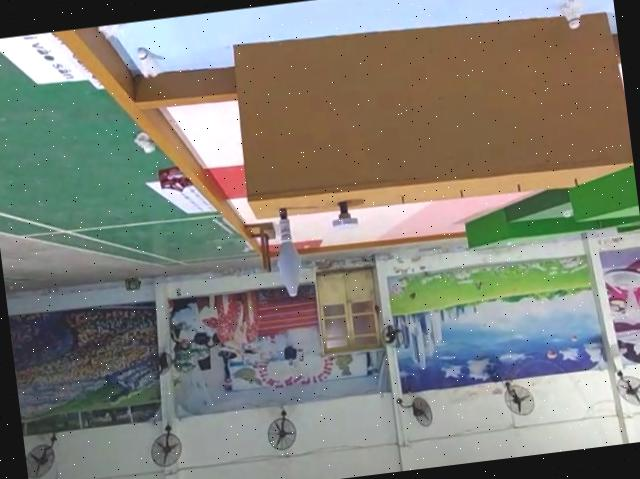Hand: (325, 198, 358, 232)
Sph: (269, 203, 303, 298)
